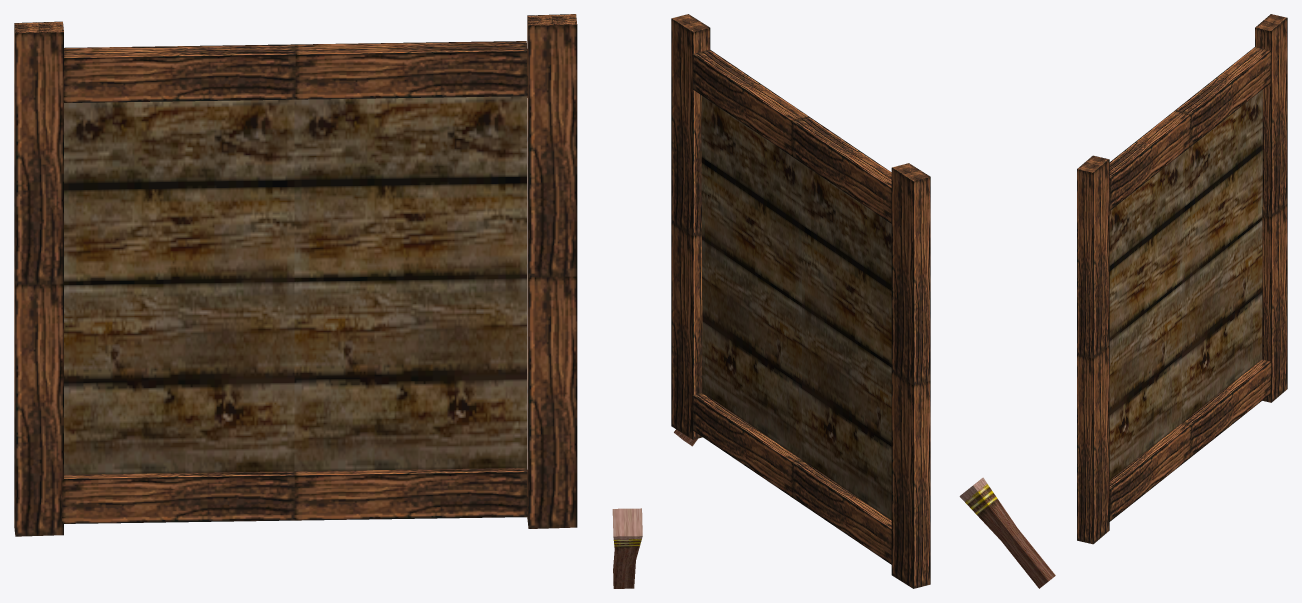
File: RM_SMALL_SLUCE_SWITCH.fbx
3 views of the same model, side by side, from view 1: azimuth 30°, elevation 25°; view 2: azimuth 150°, elevation 25°; view 3: azimuth 270°, elevation 25° (orthographic). The views are drawn at different scales.
Parts seen in each view (by area): view 1: RM_SMALL_SLUCE_SWITCH; view 2: RM_SMALL_SLUCE_SWITCH; view 3: RM_SMALL_SLUCE_SWITCH.
Boxes of the visible parts, box(x1,y1,x2,y2) form: RM_SMALL_SLUCE_SWITCH: box(14, 14, 642, 588); RM_SMALL_SLUCE_SWITCH: box(671, 14, 930, 588); RM_SMALL_SLUCE_SWITCH: box(959, 14, 1287, 588).
Bounding box in the file's own units: 13723 × 15499 × 11287.
Materials: 3 (3 with a texture image).
